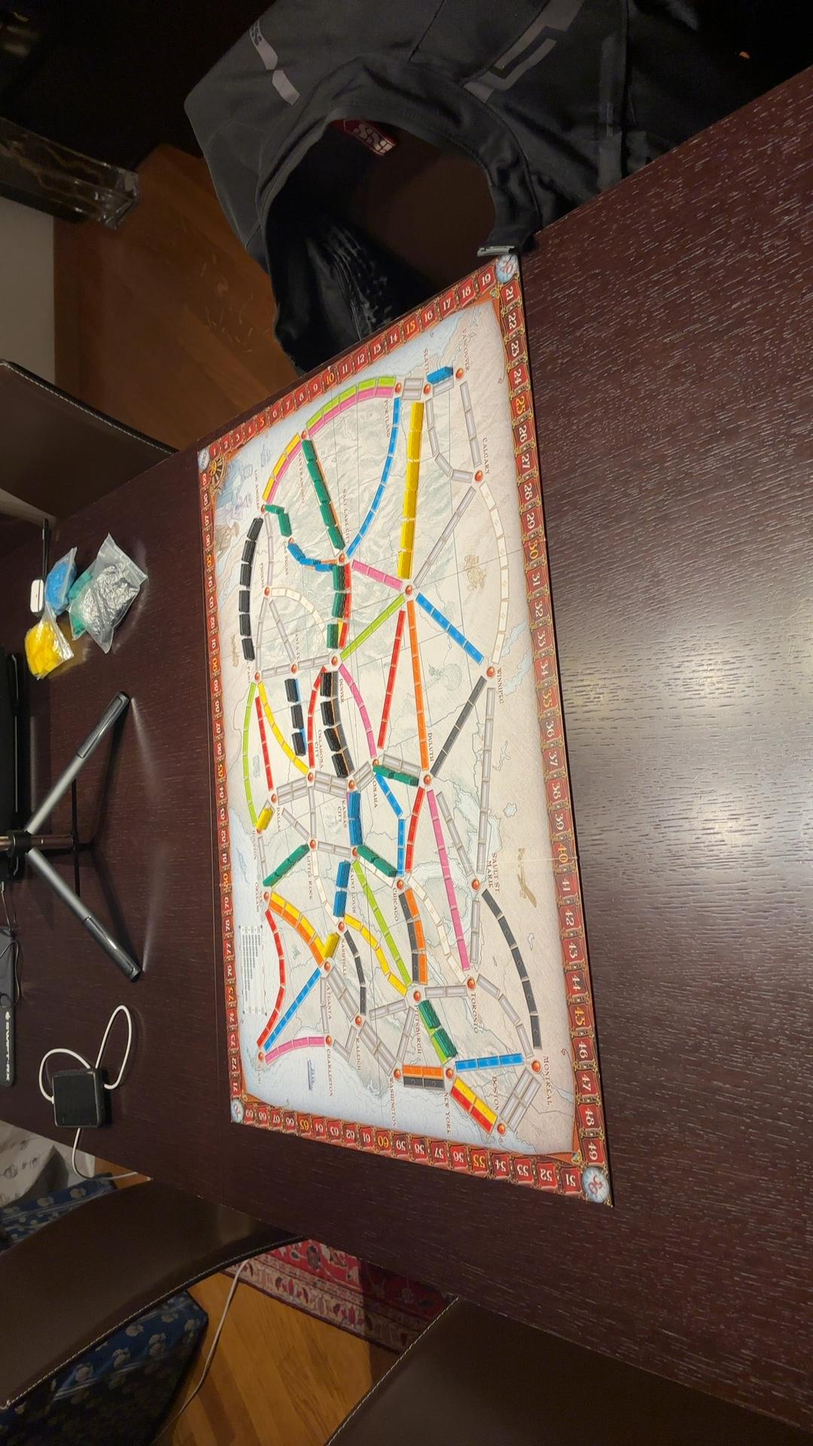black_train: (325, 728, 343, 752), (321, 672, 336, 697), (333, 752, 348, 777), (321, 702, 335, 725), (242, 538, 255, 562), (286, 679, 298, 703), (248, 517, 261, 539), (292, 703, 303, 729), (240, 563, 251, 586), (294, 729, 303, 755), (239, 589, 248, 612), (243, 638, 252, 660), (240, 613, 248, 636)
blue_train: (427, 367, 452, 385)
green_train: (433, 1027, 455, 1057), (419, 1002, 440, 1030), (332, 591, 346, 618), (332, 566, 345, 590), (327, 623, 339, 648)
yellow_train: (256, 805, 273, 833)
